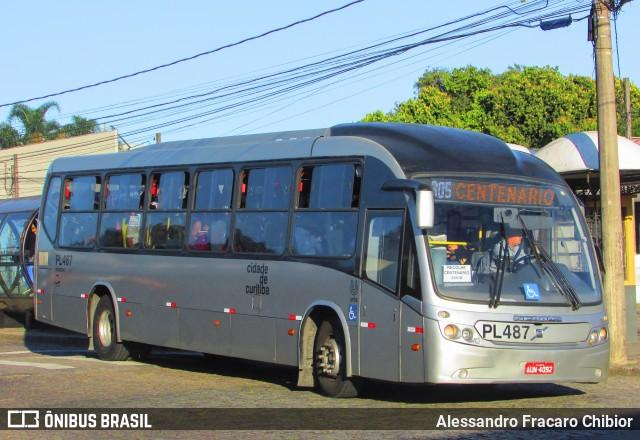CENTENARIO: (450, 177, 559, 209)
